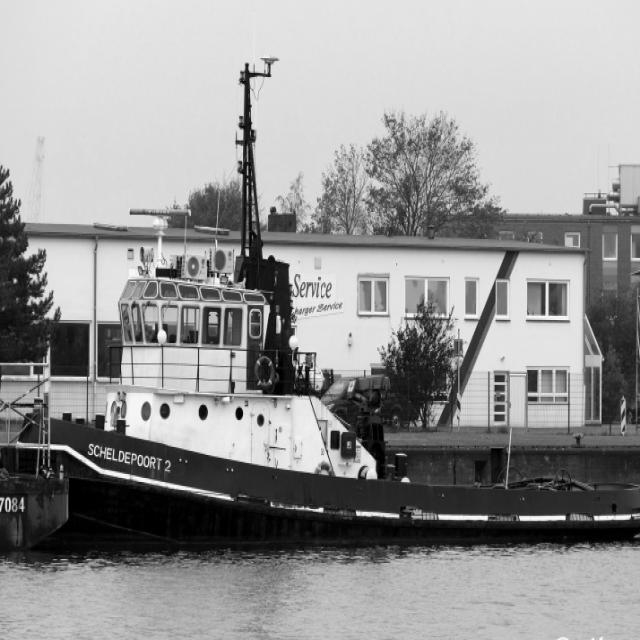tugboat: (16, 270, 640, 565)
